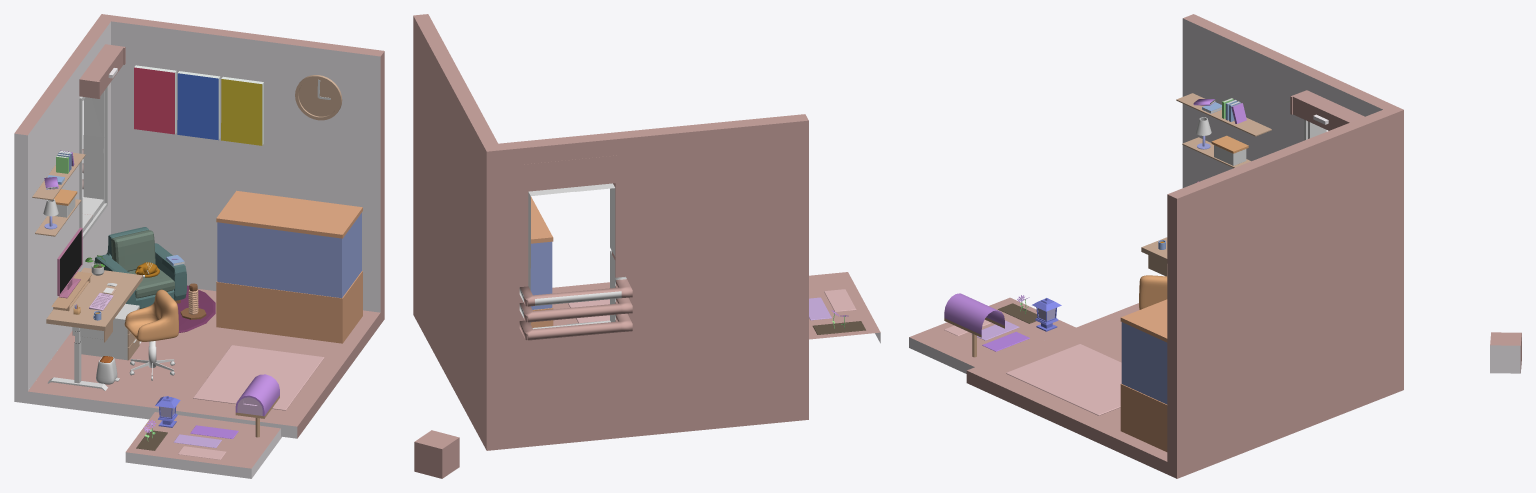
The model's file is Version1.glb.
The picture shows the model from 3 angles, left to right: view 1: azimuth 30°, elevation 25°; view 2: azimuth 150°, elevation 25°; view 3: azimuth 270°, elevation 25°; orthographic projection. The views are drawn at different scales.
Parts seen in each view (by area): view 1: Body, Aquarium, cuadros, Floor Items, Mini Floor, Desks, Shelves, Chair, Clock, Mailbox, Table Stuff, Computer (+5 smaller); view 2: Body, Mini Floor, Aquarium, Cube, Dirt, FloorThird; view 3: Body, Aquarium, Floor Items, Mini Floor, Shelves, Mailbox, Cube, Chair, Desks, Lamp.
Boxes of the visible parts, x1,y1,x2,y2 form: Body: (14,14,384,438); Aquarium: (94,190,362,343); cuadros: (134,65,263,145); Floor Items: (80,303,324,410); Mini Floor: (125,412,281,478); Desks: (46,267,142,390); Shelves: (32,150,85,236); Chair: (124,289,178,341); Clock: (295,75,342,120); Mailbox: (235,374,279,437); Table Stuff: (51,255,184,320); Computer: (57,227,82,298); Body: (413,14,808,450); Mini Floor: (809,272,880,343); Aquarium: (530,196,553,327); Cube: (414,430,459,478); Dirt: (812,321,865,334); FloorThird: (824,289,856,311); Body: (966,14,1403,478); Aquarium: (1120,299,1167,451); Floor Items: (1006,344,1121,415); Mini Floor: (909,297,1075,373); Shelves: (1176,93,1271,167); Mailbox: (944,293,1004,357); Cube: (1490,332,1521,373); Chair: (1139,275,1167,309); Desks: (1141,237,1167,276); Lamp: (1032,298,1061,331).
Bounding box in the file's own units: 27.58 × 19.65 × 38.64.
